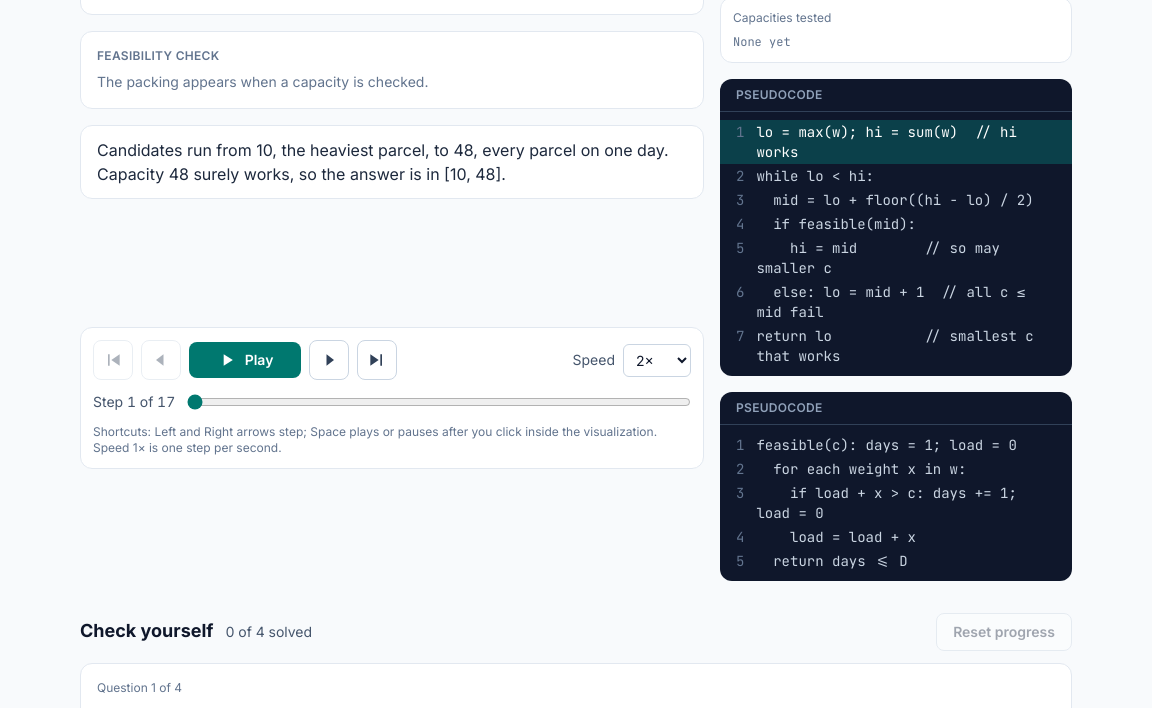
Scenario: binary search on the answer lesson › opens on the capacity range and finds 18 with 5 checks
(page scrolled)
What coordinates should you click on to do the following:
click the button named "Last step"
I would click on:
 (377, 360)
Its box is [357, 340, 397, 380].
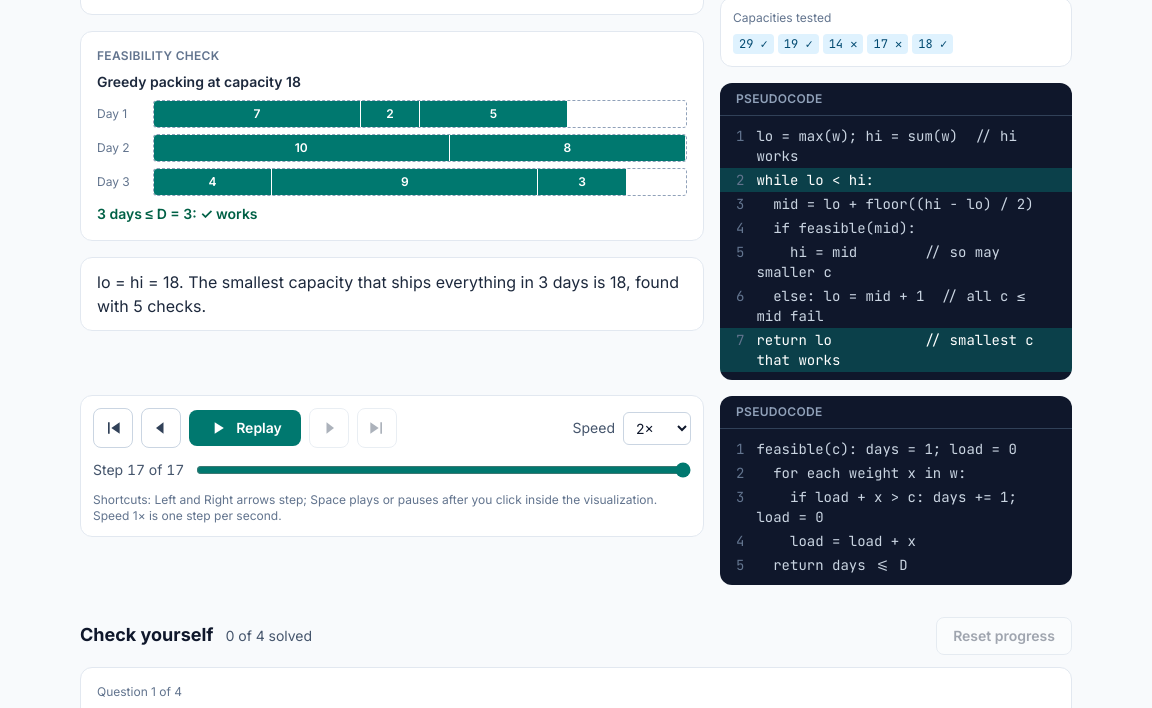
Expected: the text "The smallest capacity that ships everything in 3 days is 18" is shown, [97, 272, 679, 316]
